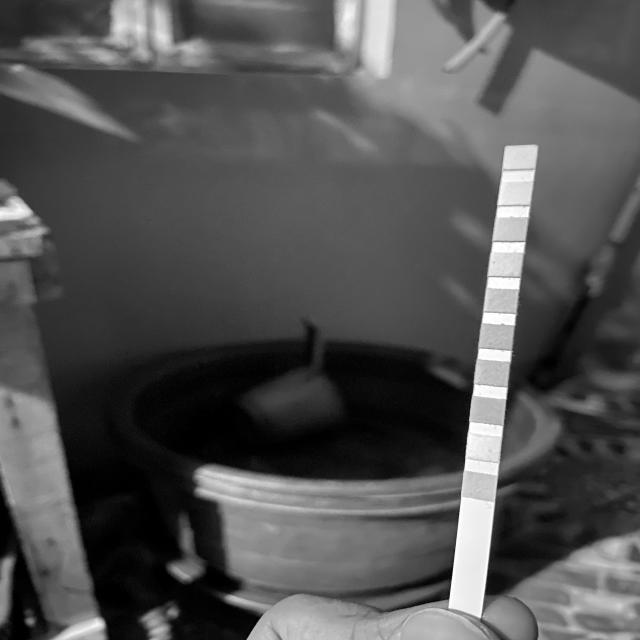Bilirubin: (468, 436, 500, 459)
Blood: (481, 326, 513, 348)
Glucose: (464, 475, 496, 497)
Ketone: (471, 399, 504, 422)
Leukocytes: (505, 146, 536, 169)
Nitrite: (500, 182, 531, 205)
Protein: (491, 253, 522, 276)
SpGravity: (476, 362, 509, 384)
Urobilinogen: (495, 218, 526, 242)
background: (0, 0, 640, 640)
pH: (486, 289, 518, 312)
strip: (449, 145, 538, 608)
